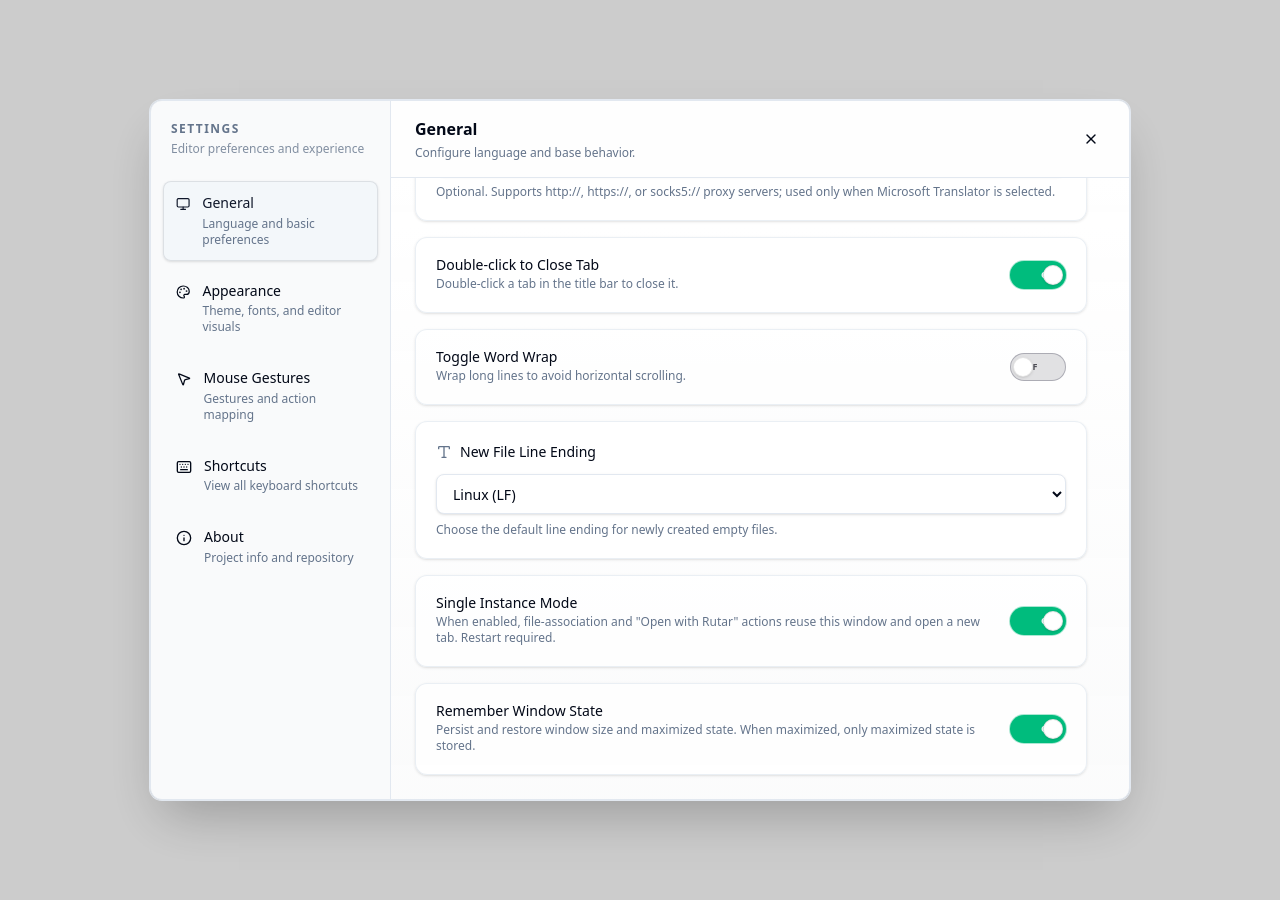
Scenario: SettingsModal › shows restart toast after toggling single-instance mode
(page scrolled)
Click the button with aria-label "Single Instance Mode" at (1038, 621), box [1010,607,1066,635]
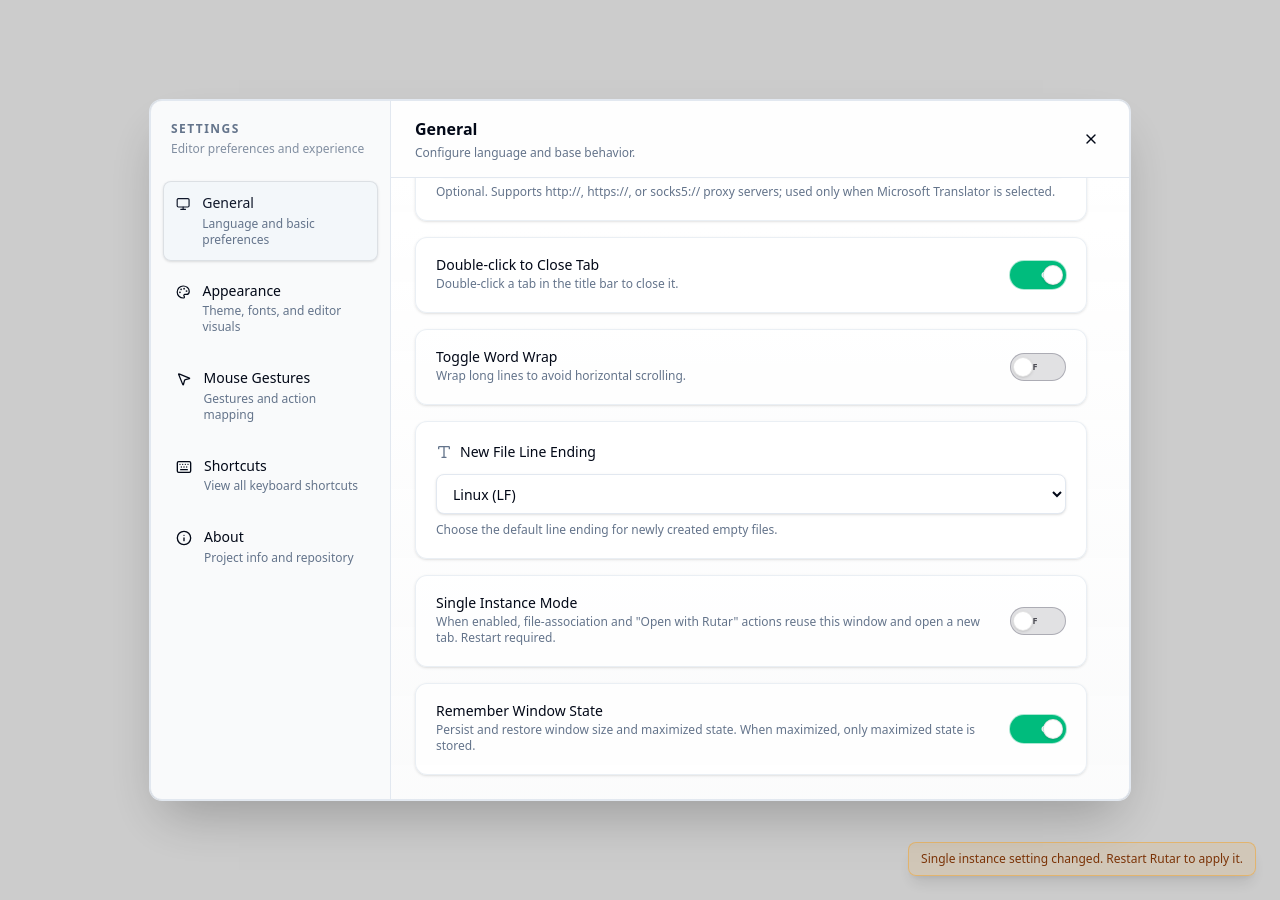
Expected: the message shows "Restart Rutar to apply it", [921,850,1243,867]
